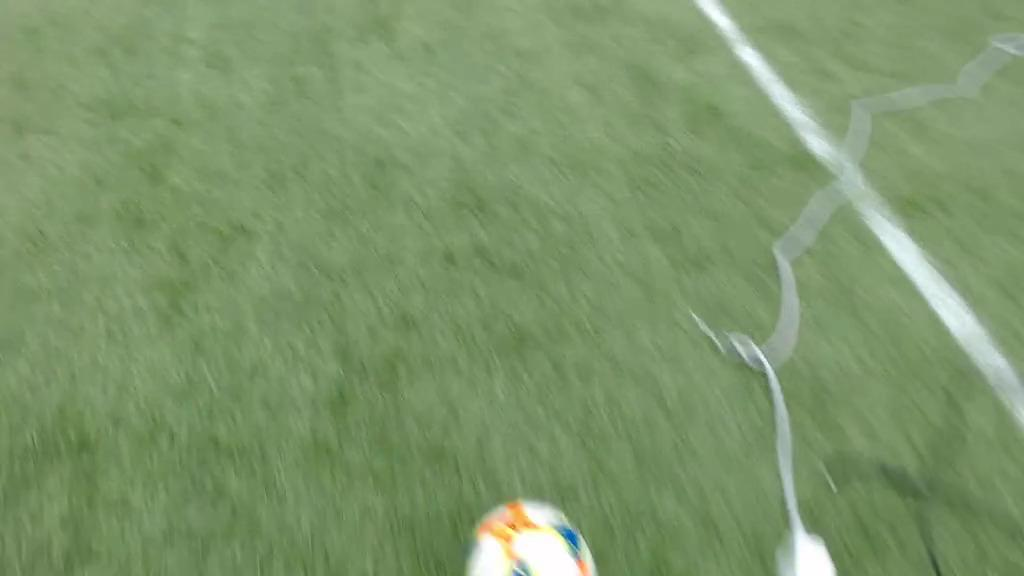ball: (468, 498, 594, 576)
